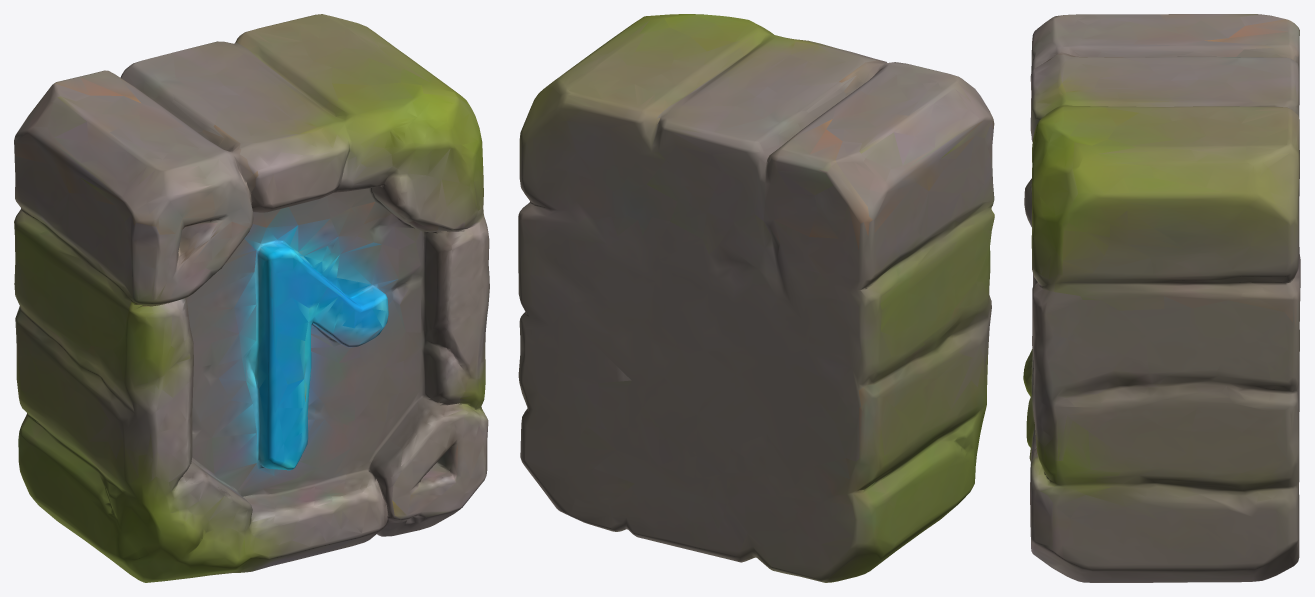
The model's file is bloque_runa_azul.glb.
The picture shows the model from 3 angles, left to right: view 1: azimuth 30°, elevation 25°; view 2: azimuth 150°, elevation 25°; view 3: azimuth 270°, elevation 25°; orthographic projection.
Visible parts, largest first — view 1: bloque_runa_azul_malla; view 2: bloque_runa_azul_malla; view 3: bloque_runa_azul_malla.
Part boxes in pixels (<box>): bloque_runa_azul_malla: <box>14,14,489,582</box>; bloque_runa_azul_malla: <box>518,14,994,582</box>; bloque_runa_azul_malla: <box>1023,14,1300,582</box>.
Size of the model in its own units: 0.1543 by 0.1774 by 0.1034.
1 material, 1 textured.
